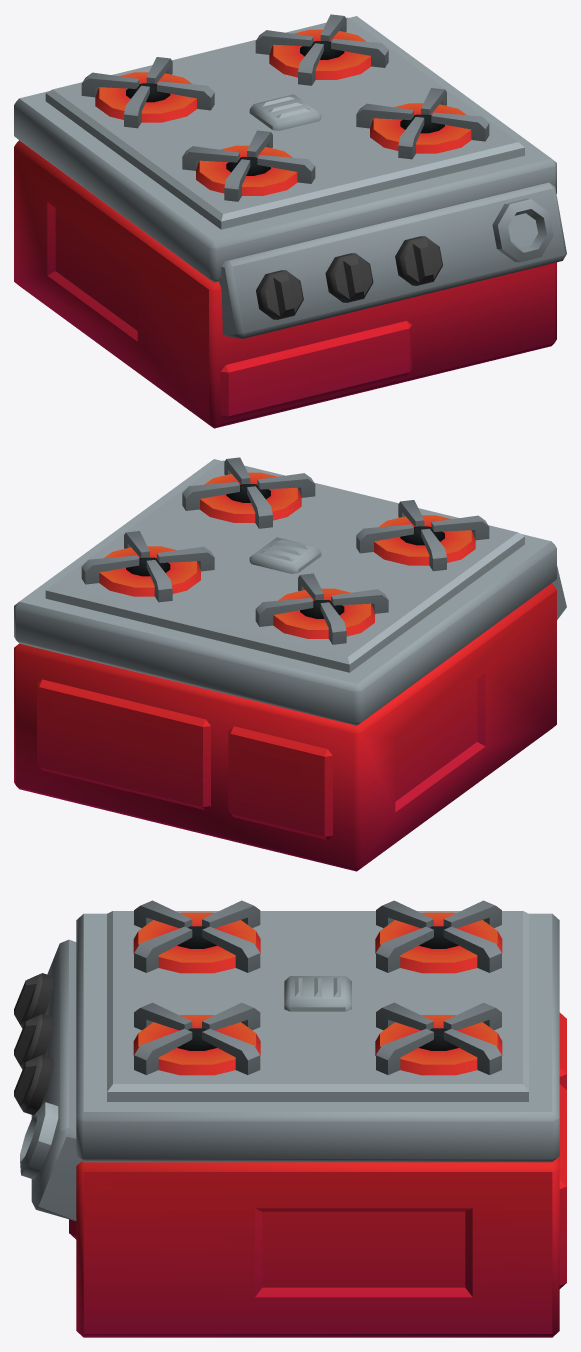
File: kaykit-restaurant-bits-stove-multi.glb
3 views of the same model, one above another, from view 1: azimuth 30°, elevation 25°; view 2: azimuth 150°, elevation 25°; view 3: azimuth 270°, elevation 25° (orthographic). The views are drawn at different scales.
Visible parts, largest first — view 1: stove_multi; view 2: stove_multi; view 3: stove_multi.
Boxes of the visible parts, box(x1,y1,x2,y2) form: stove_multi: box(14, 14, 566, 428); stove_multi: box(14, 457, 566, 871); stove_multi: box(14, 900, 566, 1337).
Bounding box in the file's own units: 2 × 1.2 × 2.29.
1 material, 1 textured.
